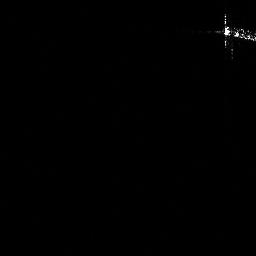ship: (216, 11, 256, 48)
